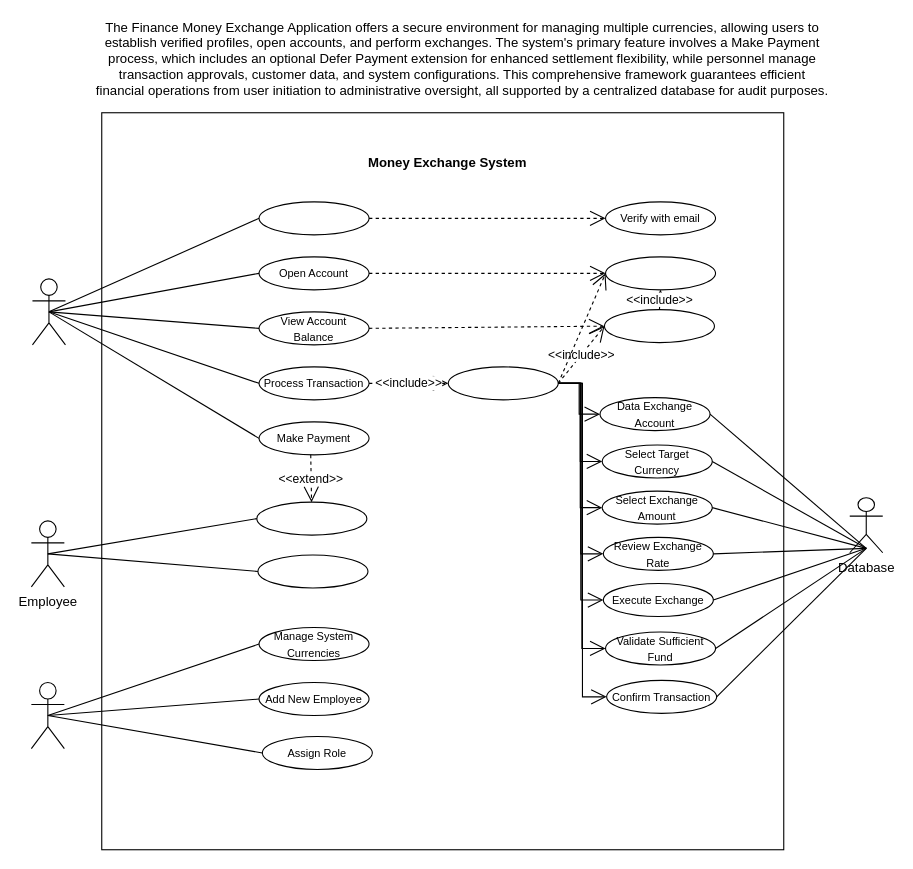
Image size: 913x869. Some labels were removed from this diagram. The shapes that lost their labels are listed below. From the top down, each one's centre as x and y in pixels, then its label:
[313,218]: Create Customer Profile
[660,273]: Select The Currency Linked To Profile
[48,311]: Customer
[658,326]: Check Multi Currency Holding
[502,383]: Performs Currency Exchange
[311,518]: Defer Payment
[312,571]: Modify Customer Details
[47,715]: Admin
